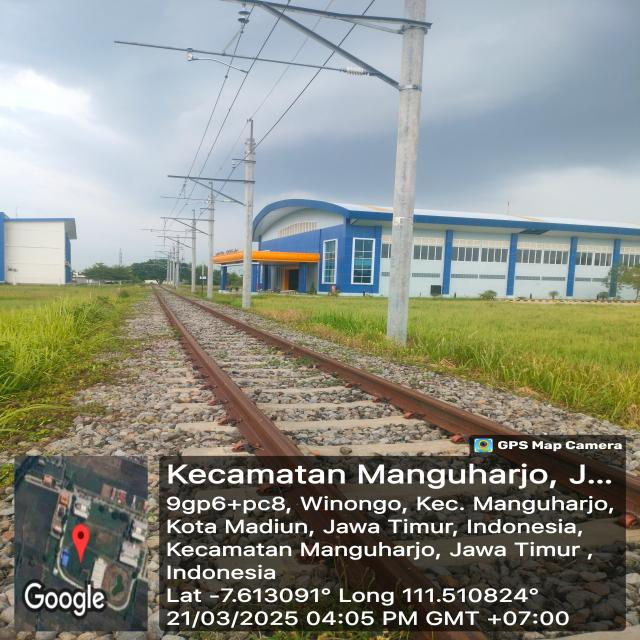rail-detection: (171, 293, 538, 442), (155, 290, 302, 456), (595, 466, 640, 515)
